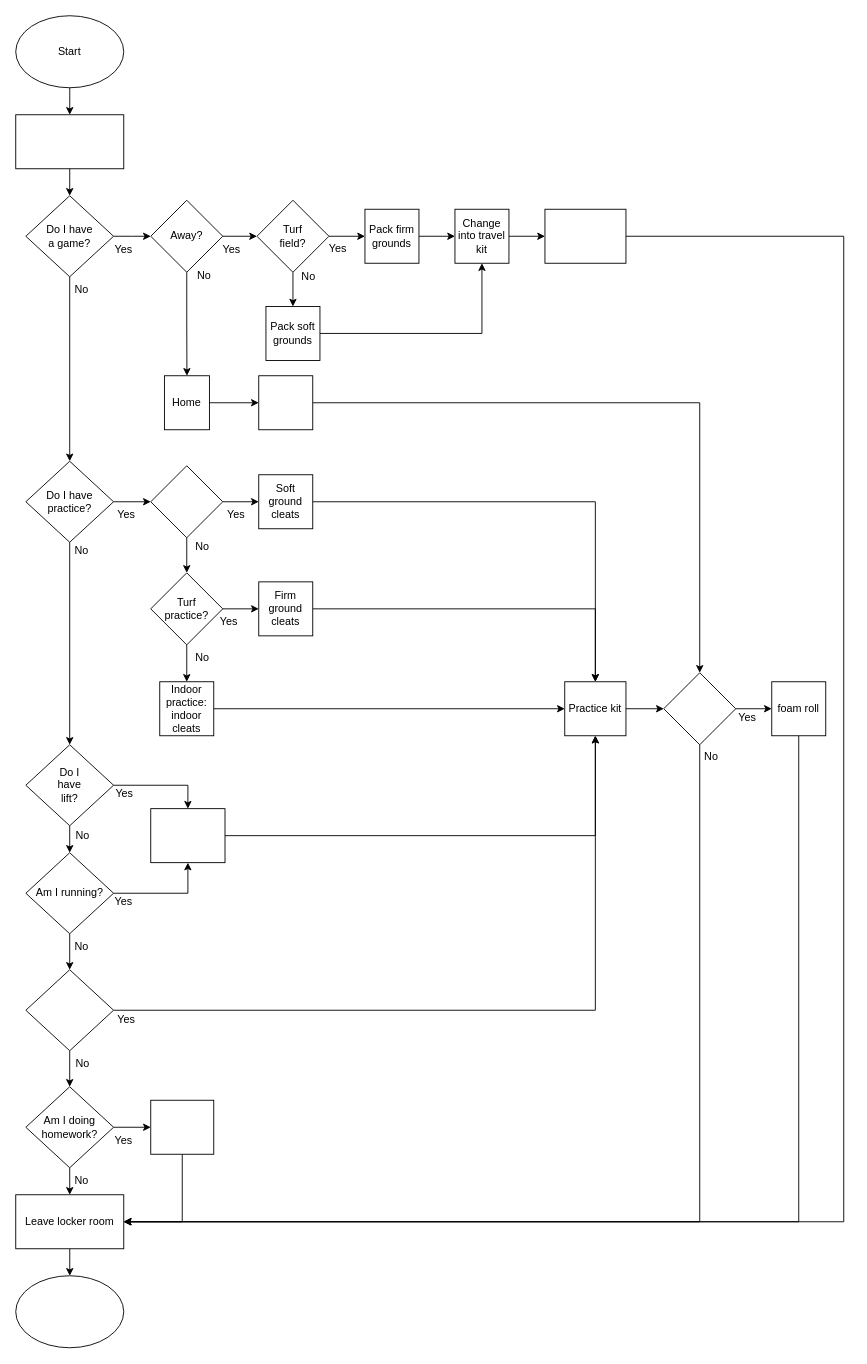
Some shapes in this 867 by 1364 pixel diagram are drawn without their labels. Here are the shapes that lost their labels. From the top down, the centre of each, then its label:
At (x=69, y=141): "Arrive at locker room".
At (x=585, y=235): "Pack gameday kit into travel bag".
At (x=285, y=402): "Warmup kit".
At (x=186, y=501): "Grass practice?".
At (x=699, y=708): "Am I sore?".
At (x=187, y=835): "Wear running shoes and bring water bottle".
At (x=69, y=1010): "Am I doing rehab?".
At (x=182, y=1126): "Complete homework".
At (x=69, y=1311): "End".
